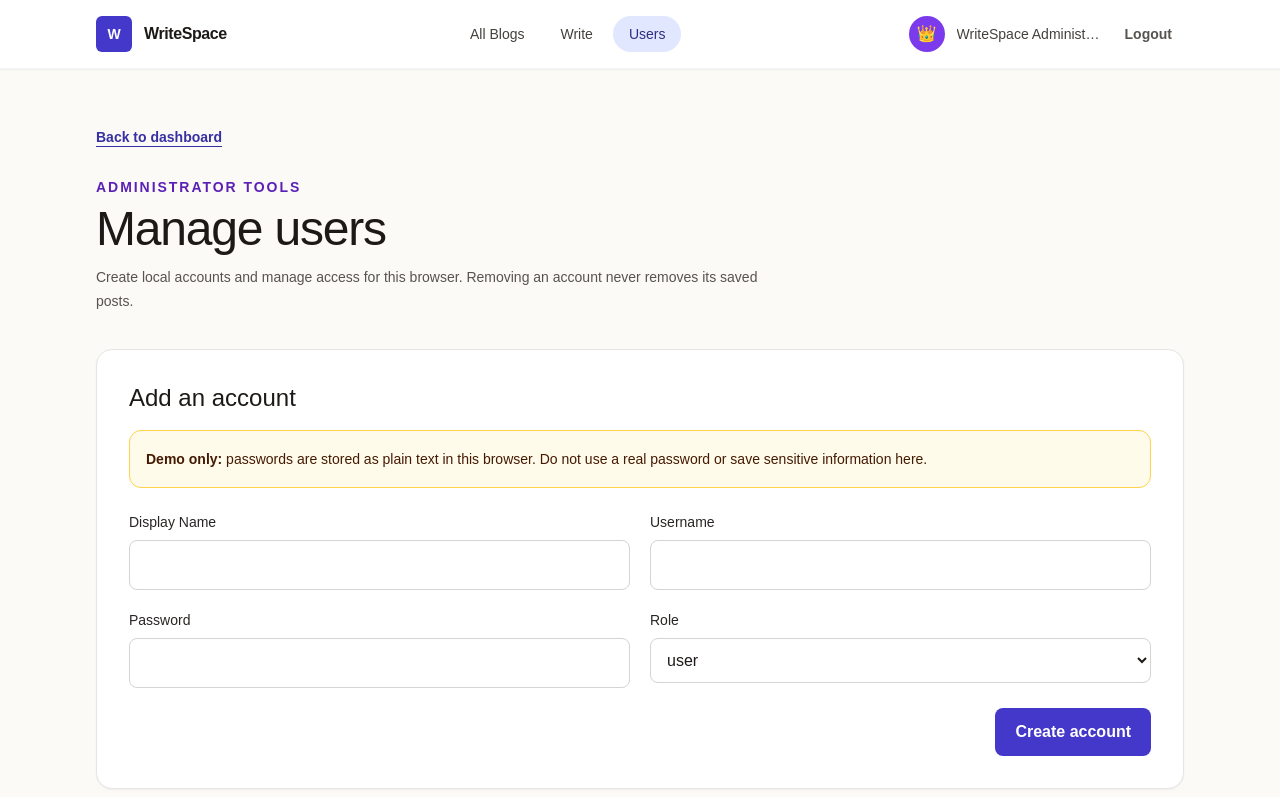
Test: administrator pages › rejects duplicate usernames without changing saved account data
Type "Another Ari" into the field labelled "Display Name".
click(380, 565); type("Another Ari")  # box [129,540,630,590]
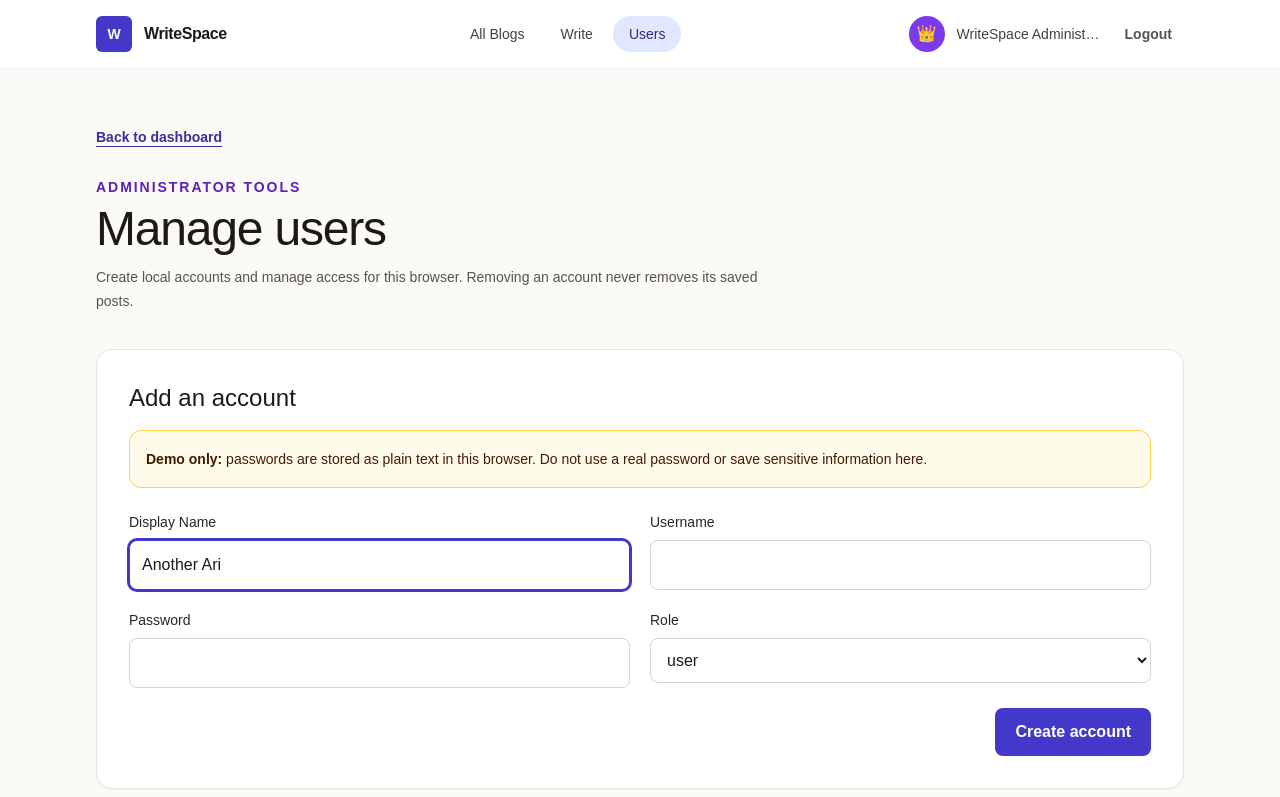
Type "ARI" into the field labelled "Username".
click(900, 565); type("ARI")  # box [650,540,1151,590]
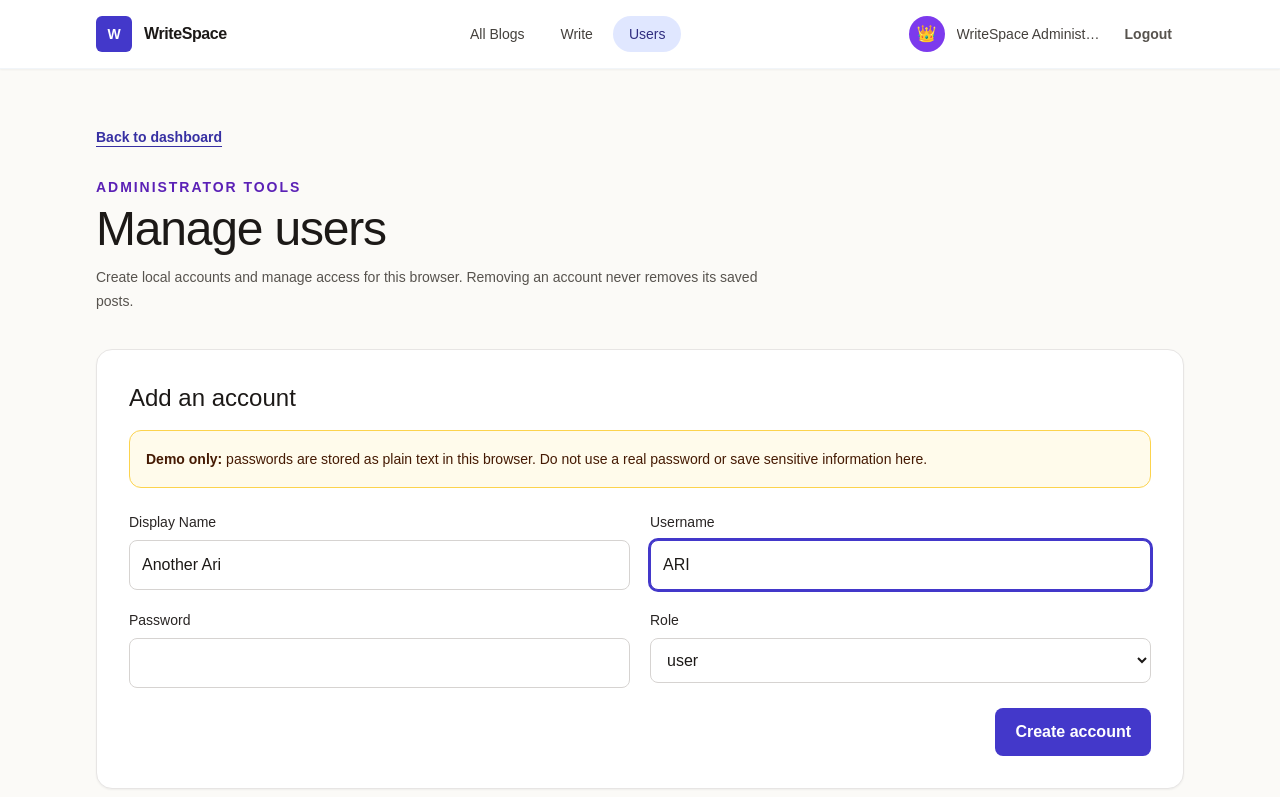
Type "plain-demo" into the password field labelled "Password".
click(380, 663); type("plain-demo")  # box [129,638,630,688]
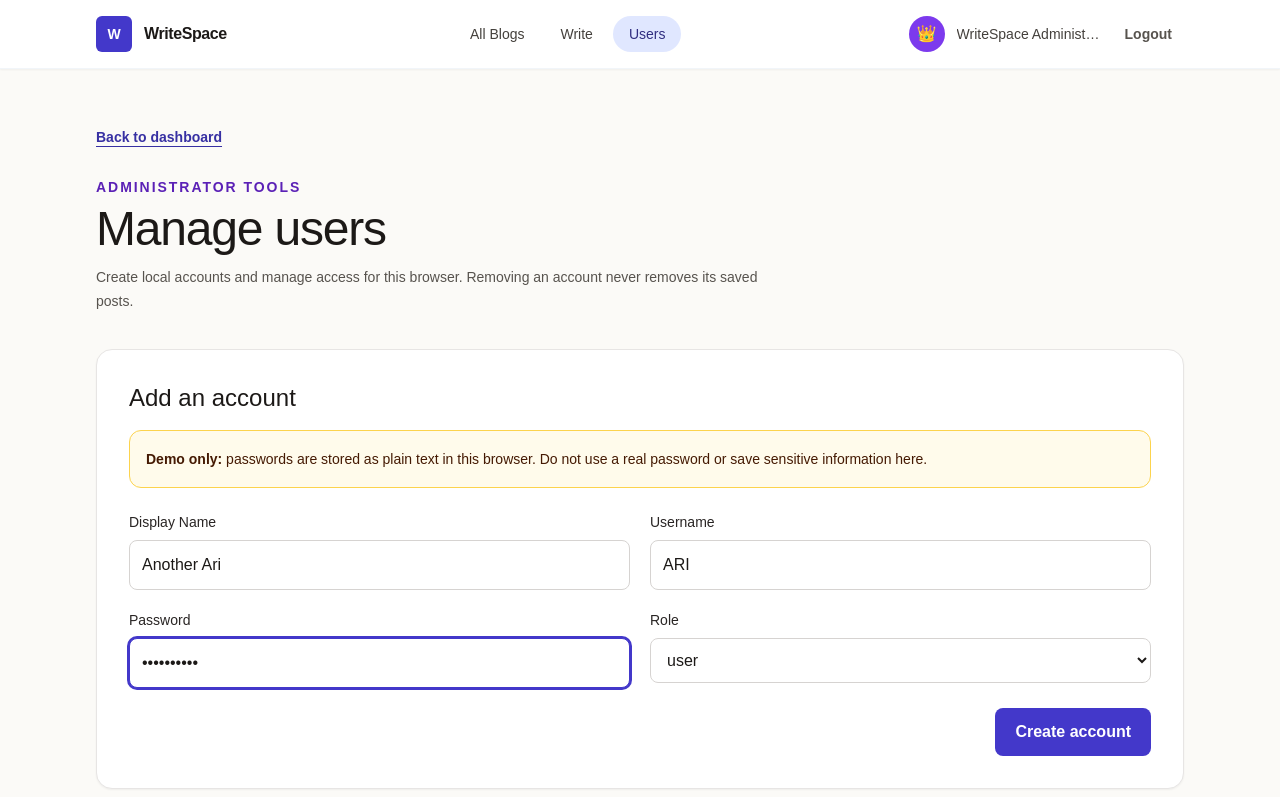
Click the button "Create account".
click(1073, 732)  # box [995,708,1151,756]
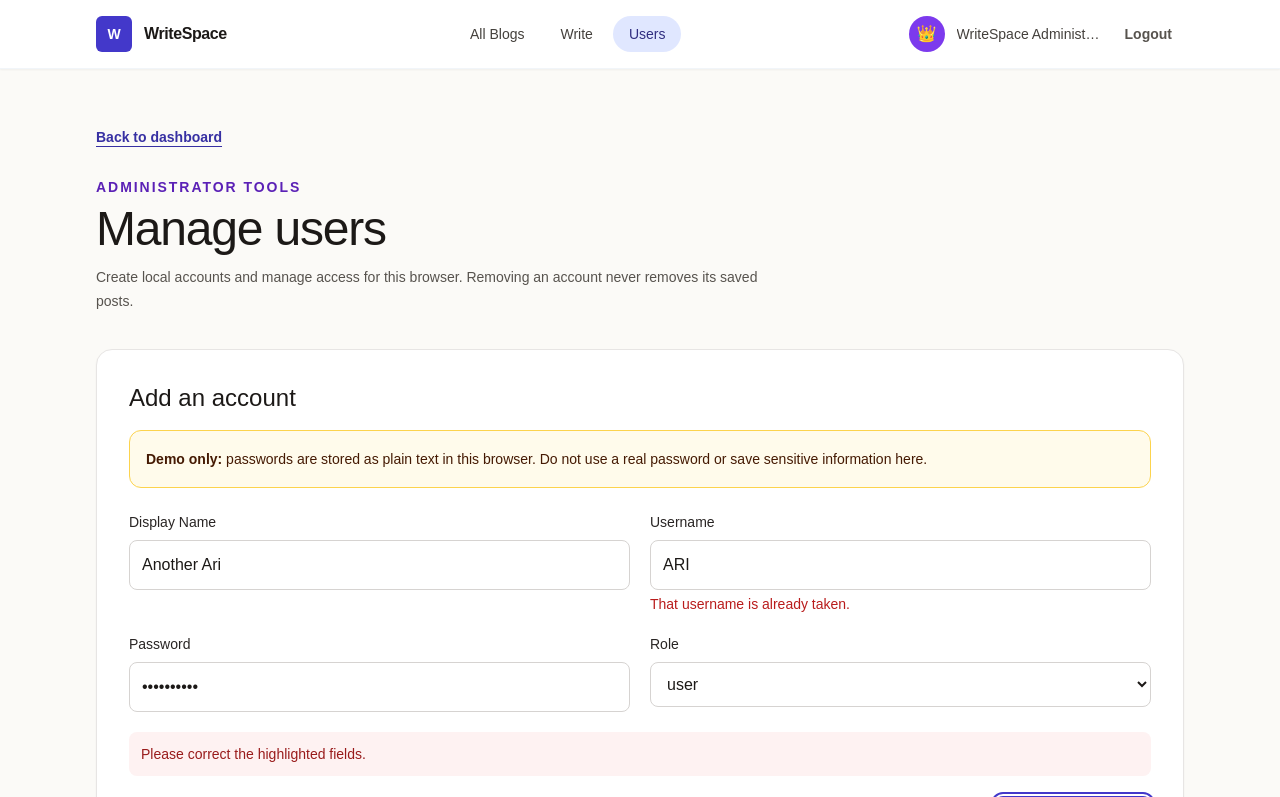
Now the text "That username is already taken." is shown, box [650,596,850,612]
